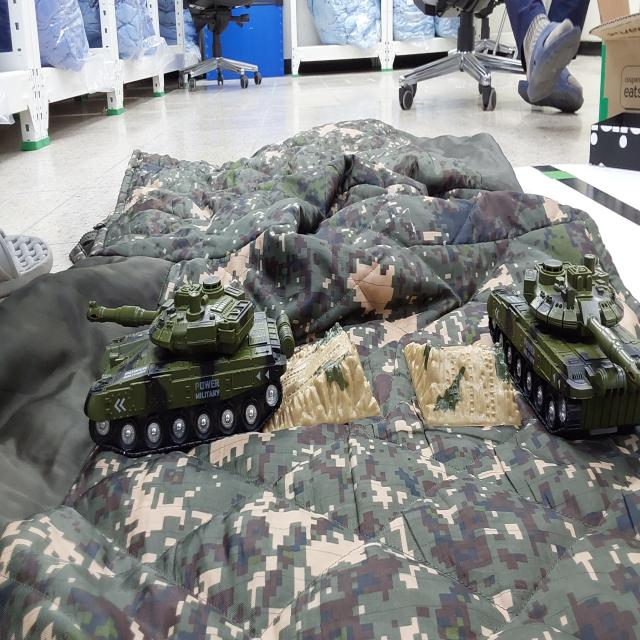enem_tank: (85, 276, 294, 454), (487, 253, 640, 435)
